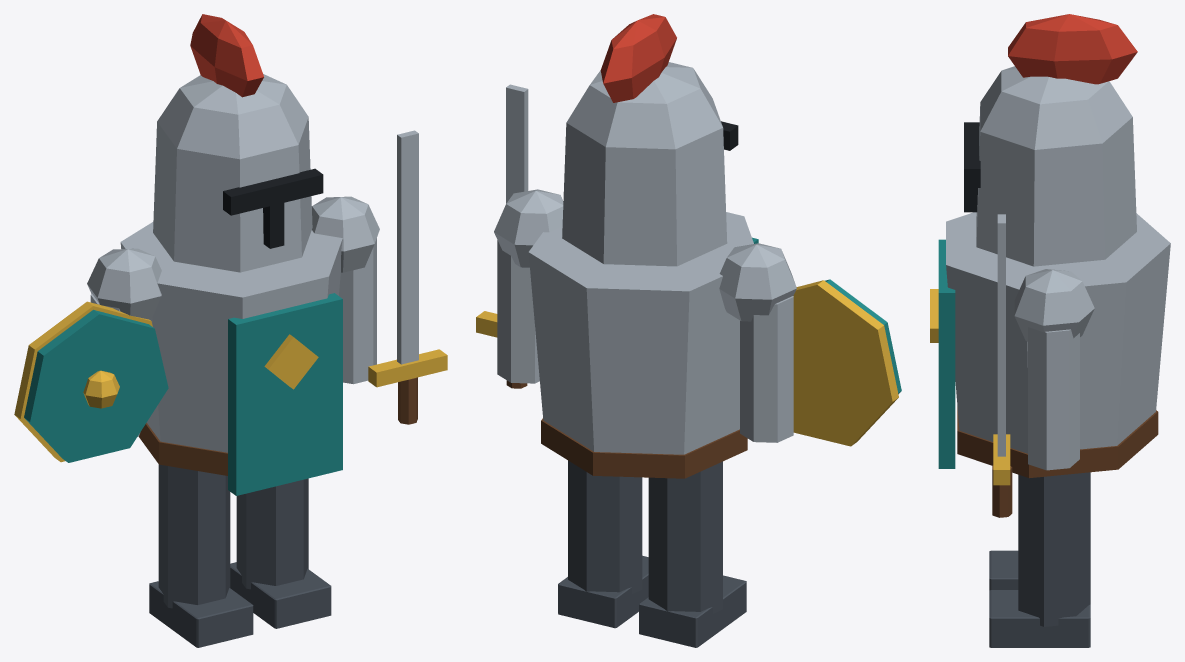
Rendered from knight-lod1.glb.
3 views of the same model, side by side, from view 1: azimuth 30°, elevation 25°; view 2: azimuth 150°, elevation 25°; view 3: azimuth 270°, elevation 25° (orthographic). The views are drawn at different scales.
Visible parts, largest first — view 1: knight; view 2: knight; view 3: knight.
Boxes of the visible parts, <box> form: knight: <box>14,14,447,647</box>; knight: <box>476,14,901,647</box>; knight: <box>930,14,1170,647</box>.
Bounding box in the file's own units: 1.16 × 1.57 × 0.57.
